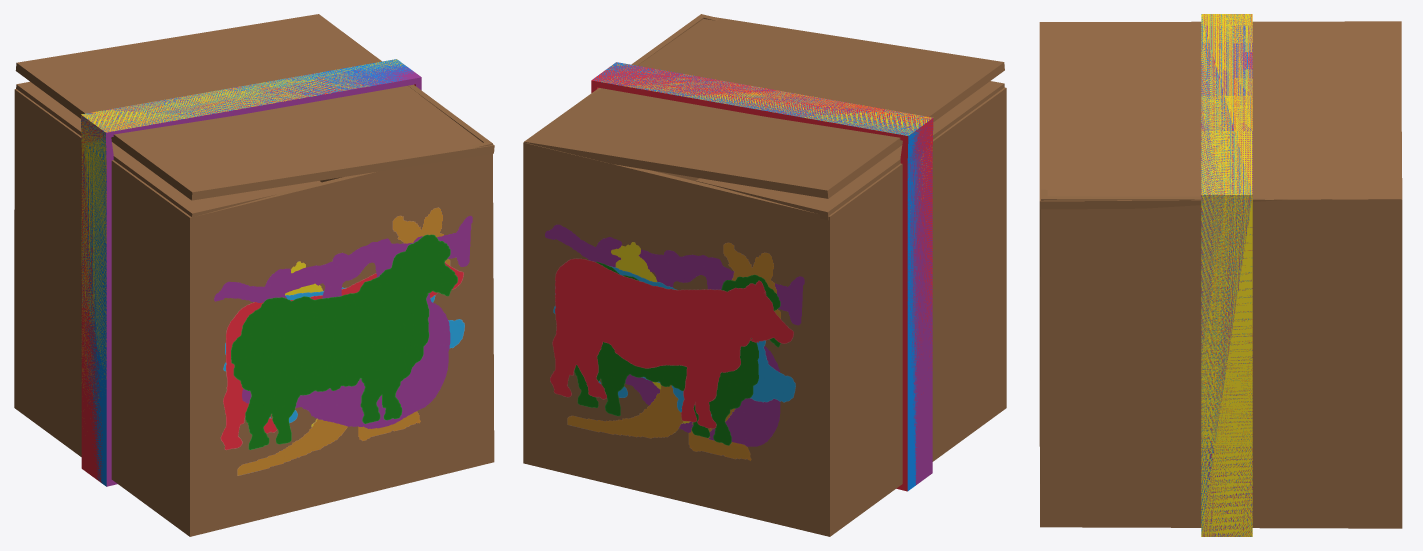
File: MeatBoxes.fbx
3 renders of one model, left to right at view 1: azimuth 30°, elevation 25°; view 2: azimuth 150°, elevation 25°; view 3: azimuth 270°, elevation 25°, orthographic. The views are drawn at different scales.
Visible parts, largest first — view 1: ChickenBox, LambBox, SlothBox, PigBox, CowBox, KangaBox; view 2: ChickenBox, CowBox, SlothBox, PigBox, LambBox, KangaBox; view 3: ChickenBox, PigBox, CowBox, SlothBox.
Part boxes in pixels (x1,y1,x2,y2): ChickenBox: (14,14,494,536); LambBox: (231,234,457,449); SlothBox: (81,61,472,486); PigBox: (81,59,464,486); CowBox: (81,65,463,482); KangaBox: (237,207,450,475); ChickenBox: (523,14,1006,536); CowBox: (550,62,933,491); SlothBox: (545,84,933,484); PigBox: (553,62,931,490); LambBox: (574,261,780,445); KangaBox: (567,242,780,460); ChickenBox: (1039,14,1402,536); PigBox: (1201,14,1252,536); CowBox: (1201,14,1252,536); SlothBox: (1201,14,1252,536).
Size of the model in its own units: 82.93 by 88.85 by 82.5.
